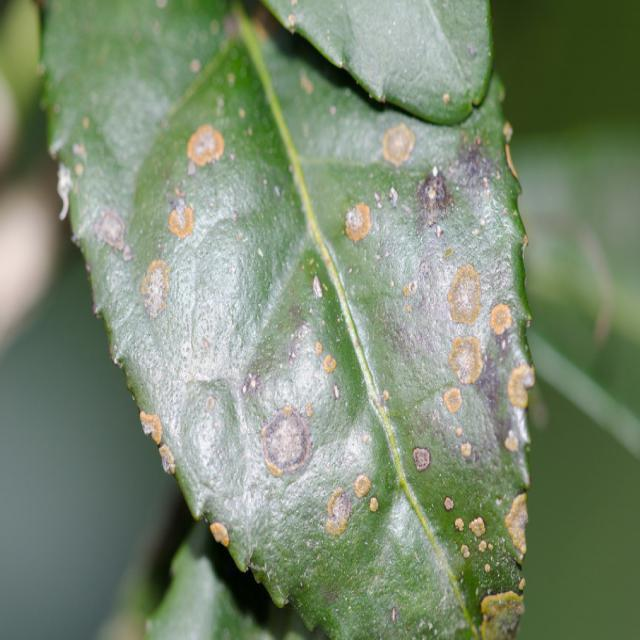Tea algae leaf spot: (81, 95, 534, 611)
